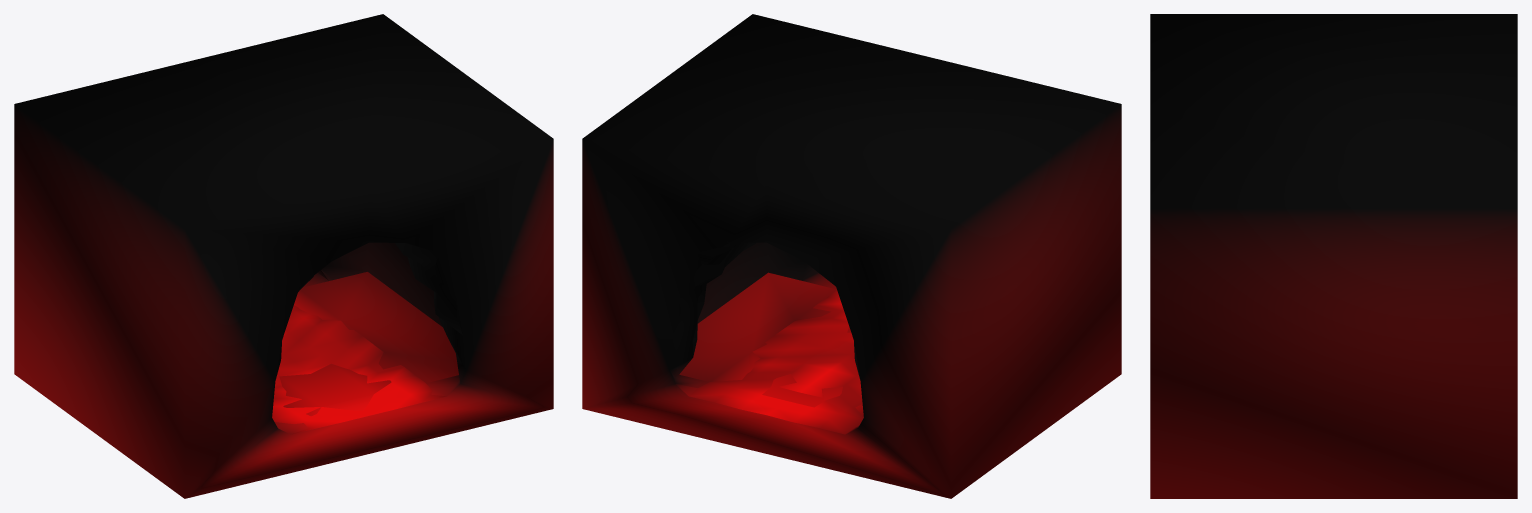
Rendered from JD_Cave_A_Tunnel_Jail_02.fbx.
3 views of the same model, side by side, from view 1: azimuth 30°, elevation 25°; view 2: azimuth 150°, elevation 25°; view 3: azimuth 270°, elevation 25° (orthographic). The views are drawn at different scales.
Visible parts, largest first — view 1: C_JD_Cave_A_Tunnel_Jail_02, JD_Cave_A_Tunnel_Jail_02; view 2: C_JD_Cave_A_Tunnel_Jail_02, JD_Cave_A_Tunnel_Jail_02; view 3: C_JD_Cave_A_Tunnel_Jail_02.
Part boxes in pixels (x1,y1,x2,y2): C_JD_Cave_A_Tunnel_Jail_02: [14, 14, 553, 498]; JD_Cave_A_Tunnel_Jail_02: [272, 243, 462, 434]; C_JD_Cave_A_Tunnel_Jail_02: [582, 14, 1121, 498]; JD_Cave_A_Tunnel_Jail_02: [670, 242, 863, 434]; C_JD_Cave_A_Tunnel_Jail_02: [1150, 14, 1517, 498].
Bounding box in the file's own units: 10 × 7 × 8.
